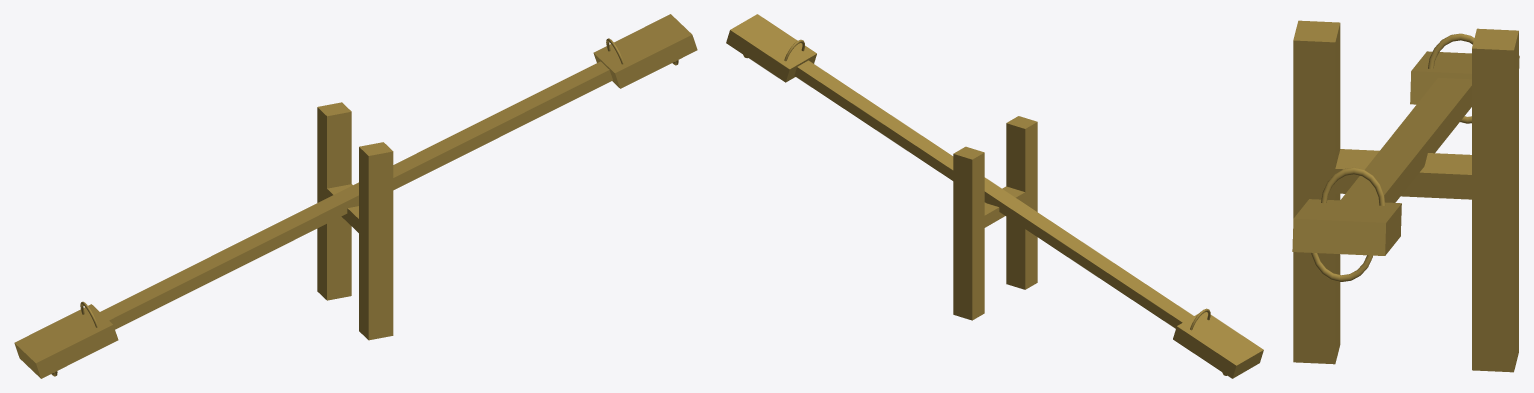
Rendered from Kaheli.fbx.
3 views of the same model, side by side, from view 1: azimuth 30°, elevation 25°; view 2: azimuth 150°, elevation 25°; view 3: azimuth 270°, elevation 25° (orthographic). The views are drawn at different scales.
Visible parts, largest first — view 1: Kacheli; view 2: Kacheli; view 3: Kacheli.
Boxes of the visible parts, x1,y1,x2,y2 form: Kacheli: [14, 14, 697, 378]; Kacheli: [726, 14, 1263, 378]; Kacheli: [1292, 20, 1519, 372].
Bounding box in the file's own units: 284 × 101 × 50.9.
